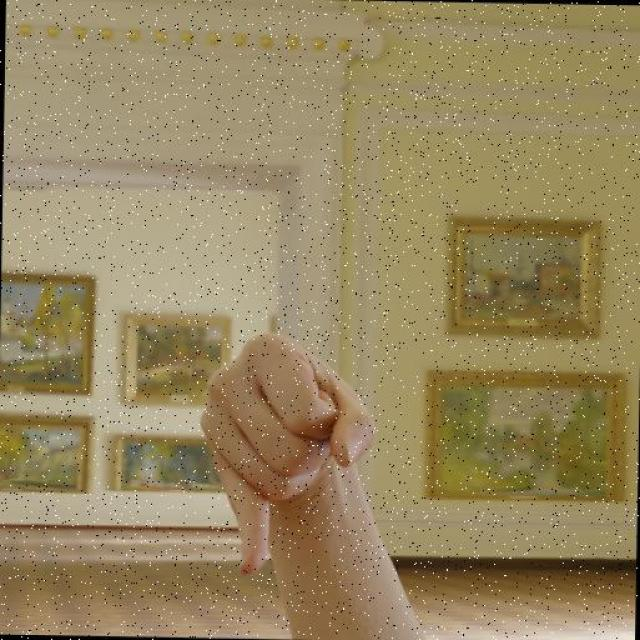J: (154, 301, 401, 604)
